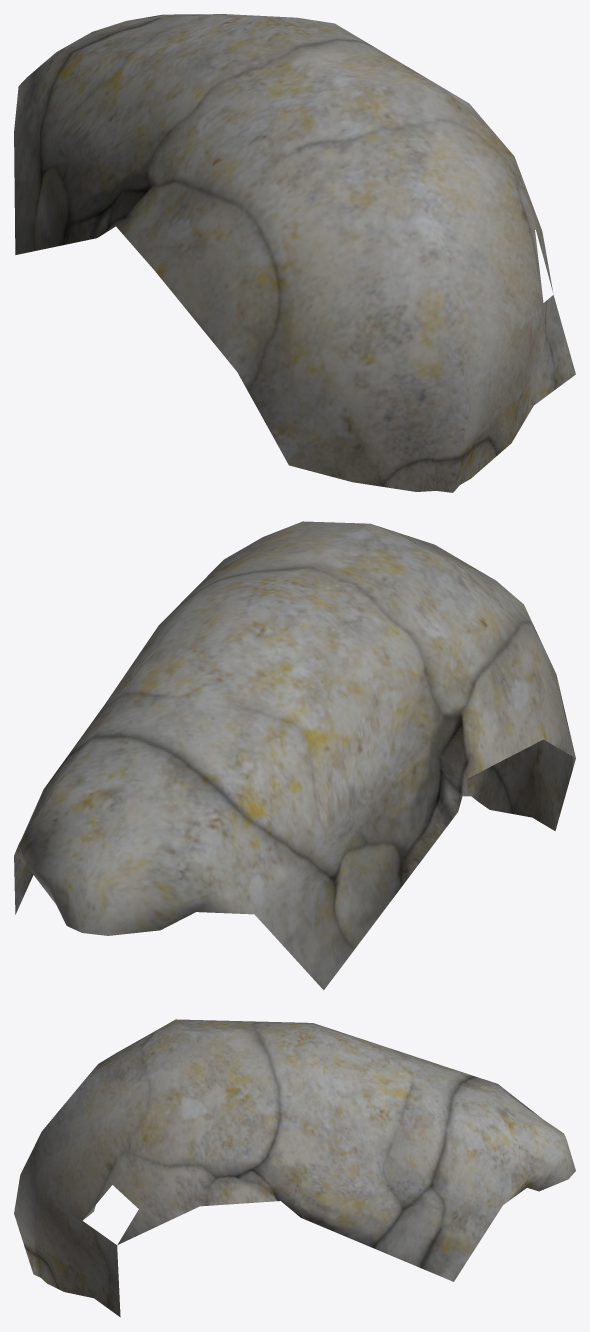
Rendered from Golem forma roca.FBX.
The picture shows the model from 3 angles, top to bottom: view 1: azimuth 30°, elevation 25°; view 2: azimuth 150°, elevation 25°; view 3: azimuth 270°, elevation 25°; orthographic projection. The views are drawn at different scales.
Parts seen in each view (by area): view 1: Object001; view 2: Object001; view 3: Object001.
Boxes of the visible parts, x1=… form: Object001: x1=14, y1=14, x2=575, y2=492; Object001: x1=14, y1=521, x2=575, y2=990; Object001: x1=14, y1=1019, x2=575, y2=1317.
Size of the model in its own units: 0.9233 by 0.7983 by 1.68.
